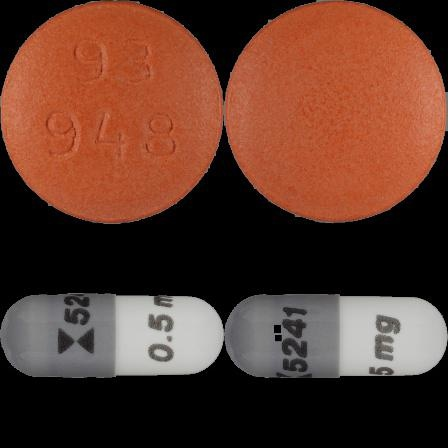54868-5437: (0, 0, 224, 224)
